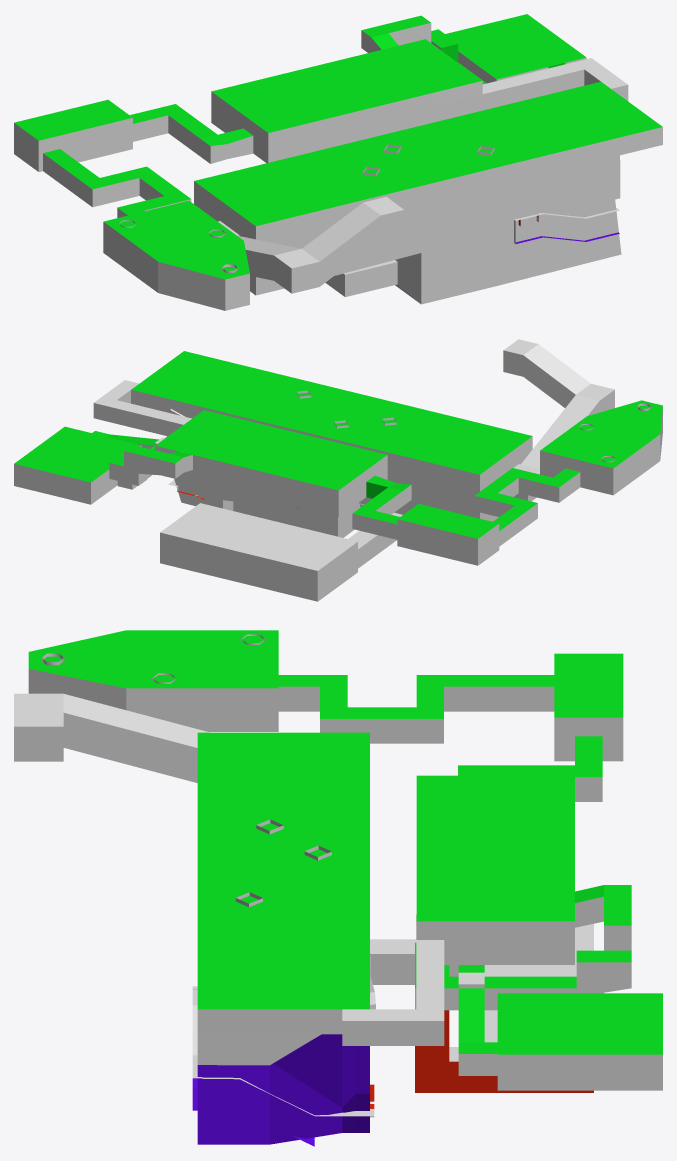
The model's file is TutorialFloor.fbx.
The picture shows the model from 3 angles, top to bottom: view 1: azimuth 30°, elevation 25°; view 2: azimuth 150°, elevation 25°; view 3: azimuth 270°, elevation 25°; orthographic projection. The views are drawn at different scales.
Parts seen in each view (by area): view 1: Cylinder; view 2: Cylinder; view 3: Cylinder.
Boxes of the visible parts, <box> form: Cylinder: <box>14,14,662,310</box>; Cylinder: <box>14,339,662,601</box>; Cylinder: <box>14,630,662,1146</box>.
Bounding box in the file's own units: 13111 × 3696 × 9420.
